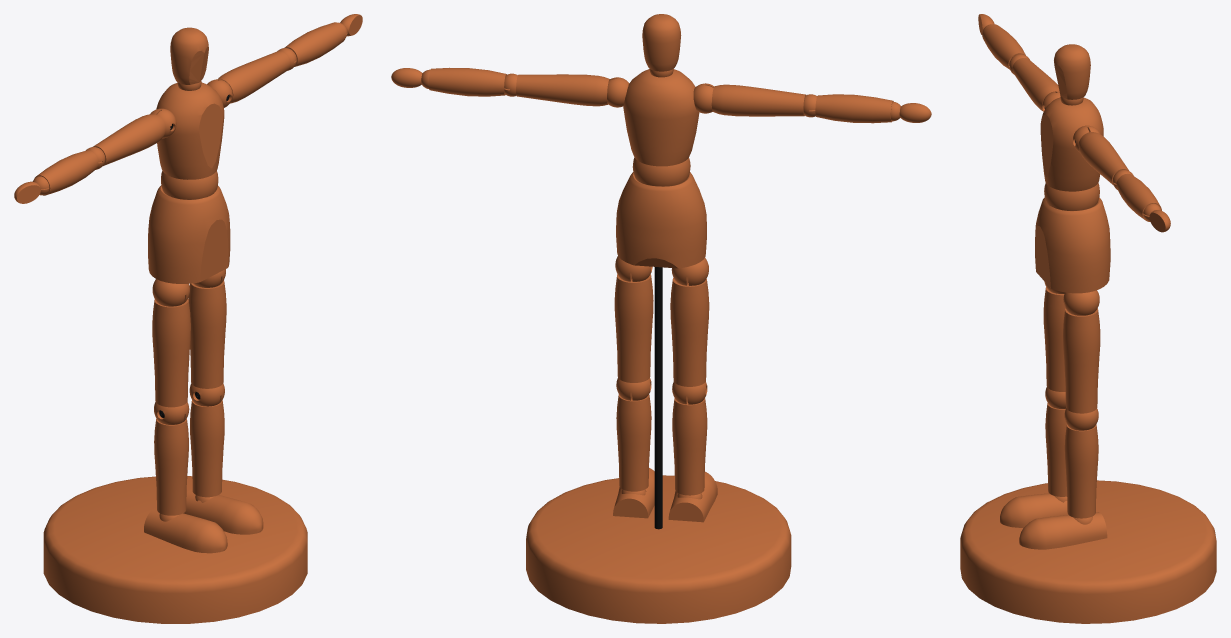
The model's file is Workplace_WoodenDoll.fbx.
3 renders of one model, left to right at view 1: azimuth 30°, elevation 25°; view 2: azimuth 150°, elevation 25°; view 3: azimuth 270°, elevation 25°, orthographic. The views are drawn at different scales.
Visible parts, largest first — view 1: Doll, Base; view 2: Doll, Base; view 3: Doll, Base.
Boxes of the visible parts, box(x1,y1,x2,y2) form: Doll: box(14, 14, 362, 553); Base: box(43, 476, 307, 623); Doll: box(391, 14, 931, 522); Base: box(526, 267, 791, 623); Doll: box(978, 14, 1170, 549); Base: box(960, 480, 1216, 623).
Bounding box in the file's own units: 28.68 × 33.54 × 14.85.
